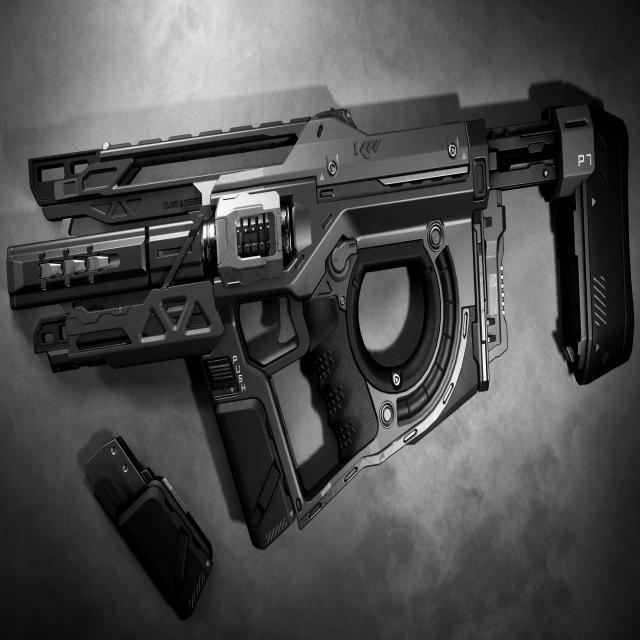Sub-machine-gun: (6, 101, 610, 537)
